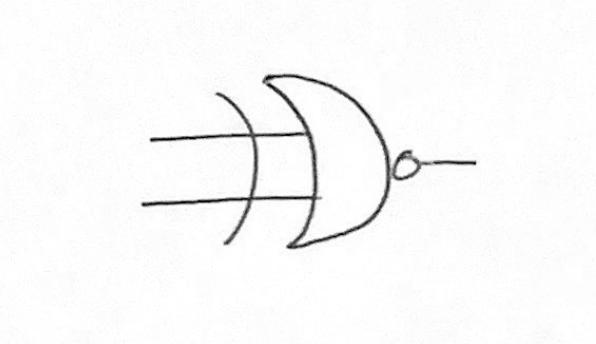XNOR: (203, 71, 433, 275)
